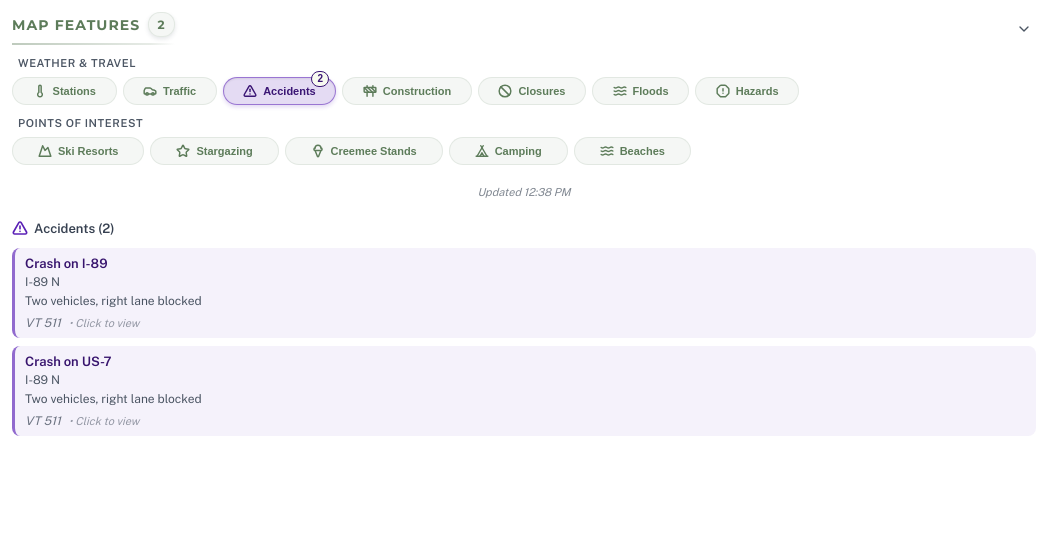
TravelLayer › toggles filter chips to show other incident types
The width and height of the screenshot is (1048, 533).
Click the button "Construction" at (407,91), box [342,77,472,105]
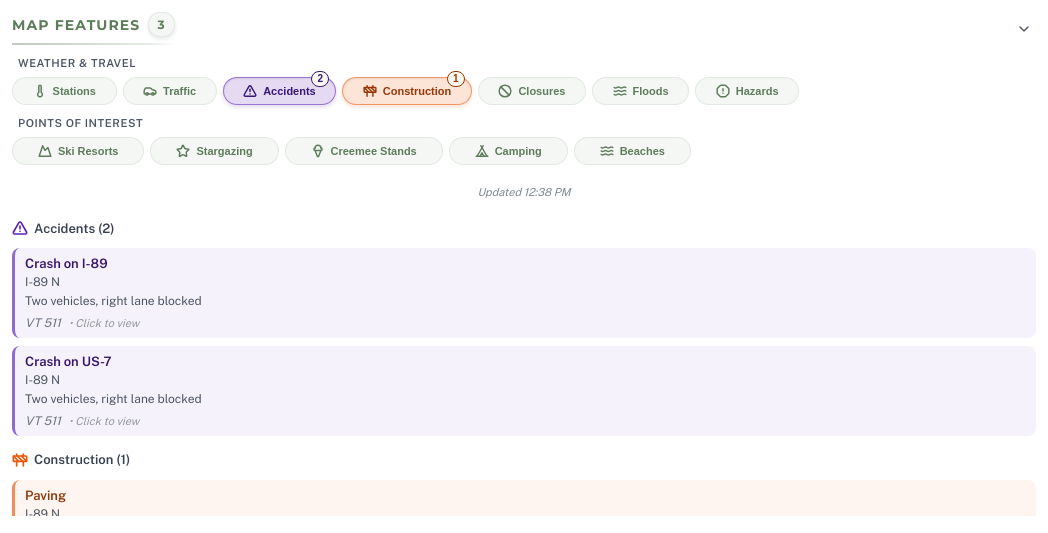
Now the text "Paving" is shown, box [25,488,66,503]
